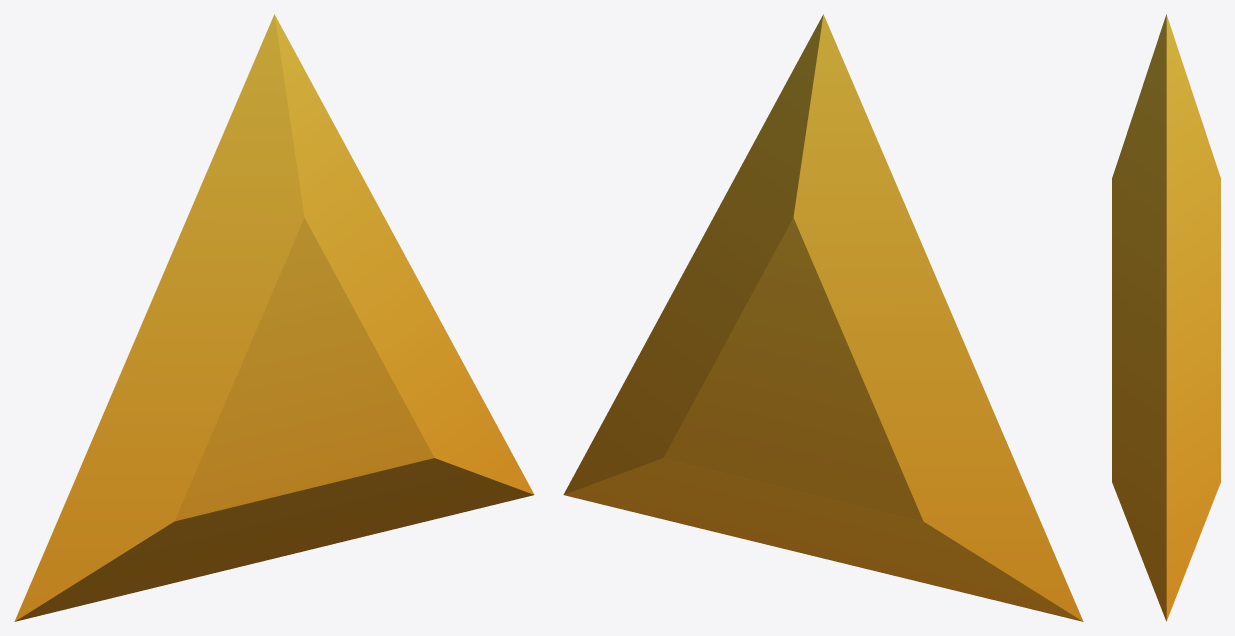
Rendered from gem_yellow.obj.
3 renders of one model, left to right at view 1: azimuth 30°, elevation 25°; view 2: azimuth 150°, elevation 25°; view 3: azimuth 270°, elevation 25°, orthographic. The views are drawn at different scales.
Parts seen in each view (by area): view 1: Gem1_Circle.001; view 2: Gem1_Circle.001; view 3: Gem1_Circle.001.
Part boxes in pixels (x1,y1,x2,y2): Gem1_Circle.001: (14, 14, 534, 621); Gem1_Circle.001: (563, 14, 1083, 621); Gem1_Circle.001: (1112, 14, 1220, 621).
Bounding box in the file's own units: 0.5 × 0.5 × 0.1.
1 material, 1 textured.
